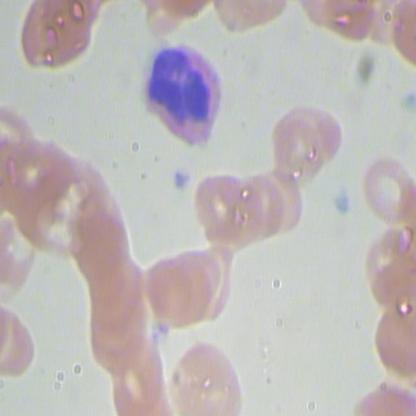Platelets: (333, 191, 353, 216), (171, 168, 190, 193)
RBC: (164, 334, 254, 415), (266, 105, 344, 186), (16, 1, 93, 79), (192, 164, 252, 247), (72, 205, 134, 280), (354, 226, 415, 301), (359, 144, 415, 225), (110, 335, 166, 415), (144, 250, 199, 323), (365, 304, 415, 379), (237, 174, 289, 239)
WBC: (137, 42, 229, 153)
